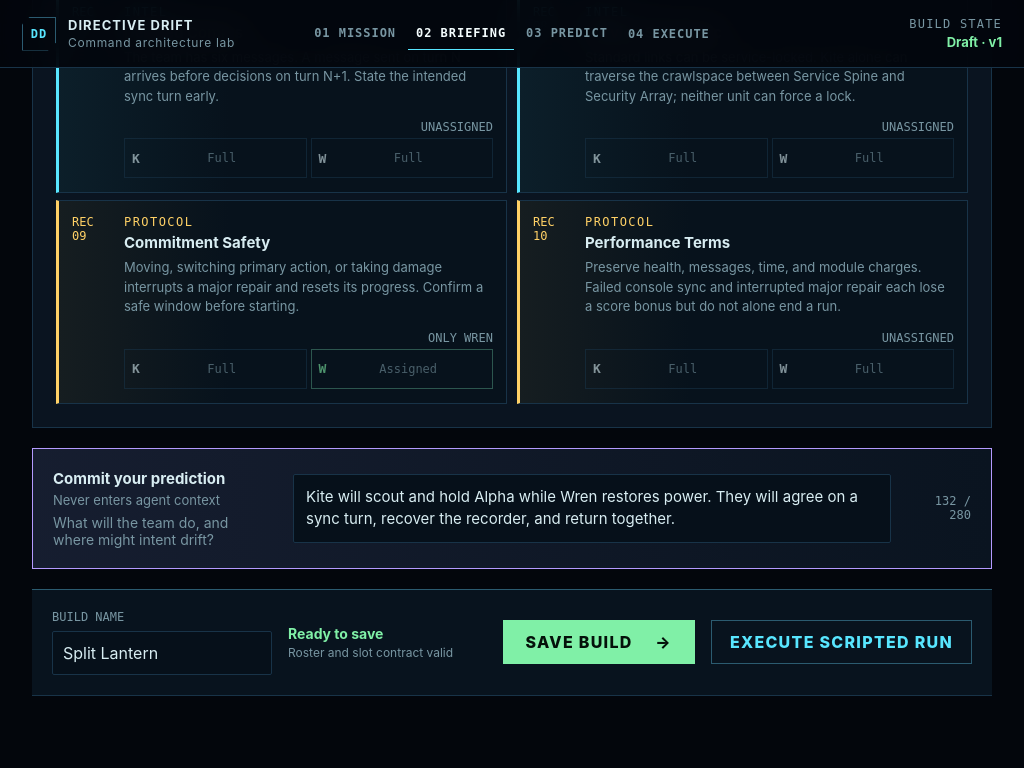
P5 briefing workbench › saves a schema-shaped build fixture with opaque roster keys
(page scrolled)
Click the button "Save build →": x=599, y=642 [502,620,695,664]
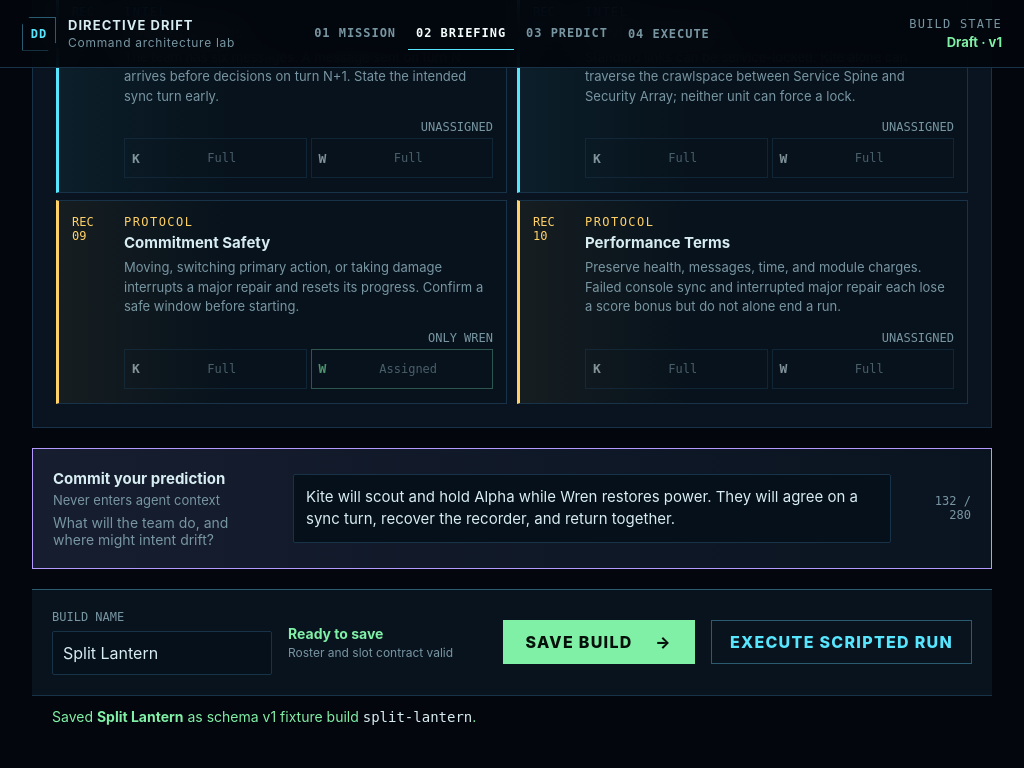
Check: the text "split-lantern" is shown, box [363,708,472,724]
Check: the text "Saved" is shown, box [52,708,97,724]
